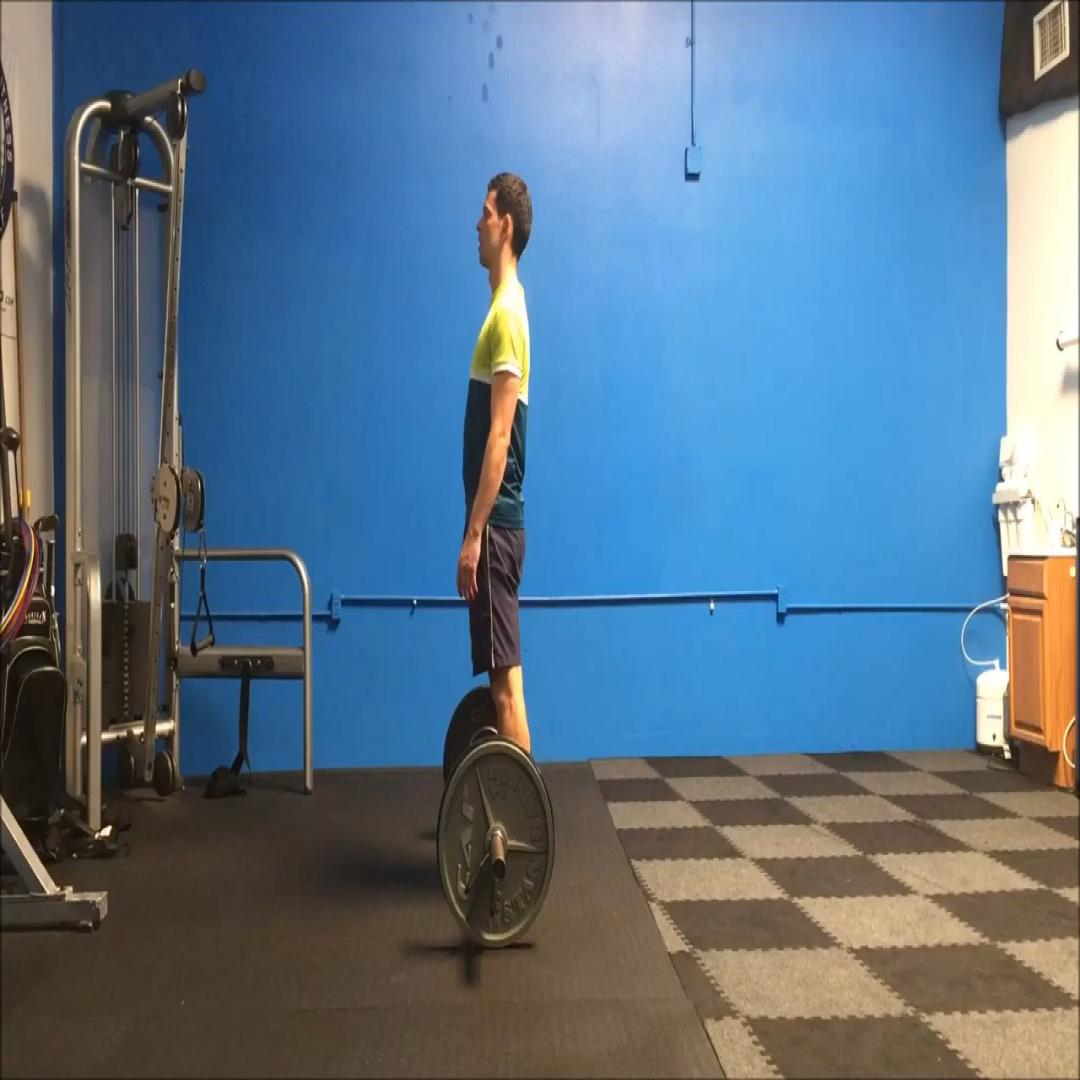Bar: (491, 855, 507, 883)
Barbell: (437, 736, 555, 950)
